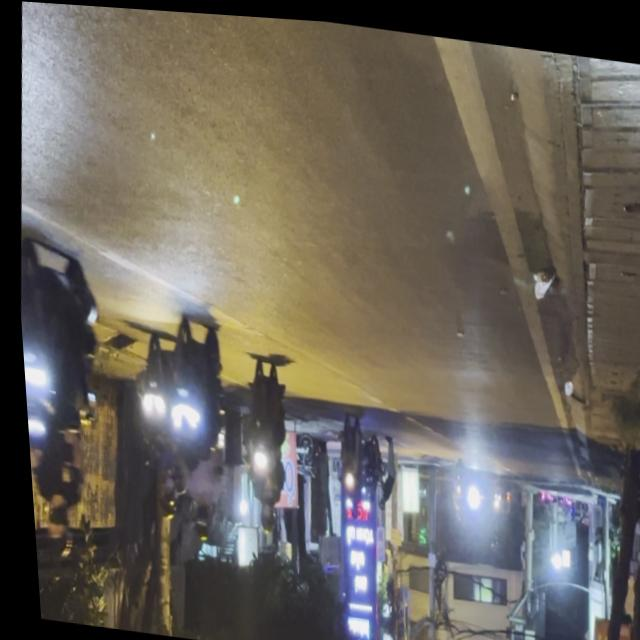helmet: (23, 446, 58, 506), (36, 498, 65, 546), (182, 504, 205, 541)
licenseplate: (12, 233, 118, 552), (149, 309, 239, 546)
